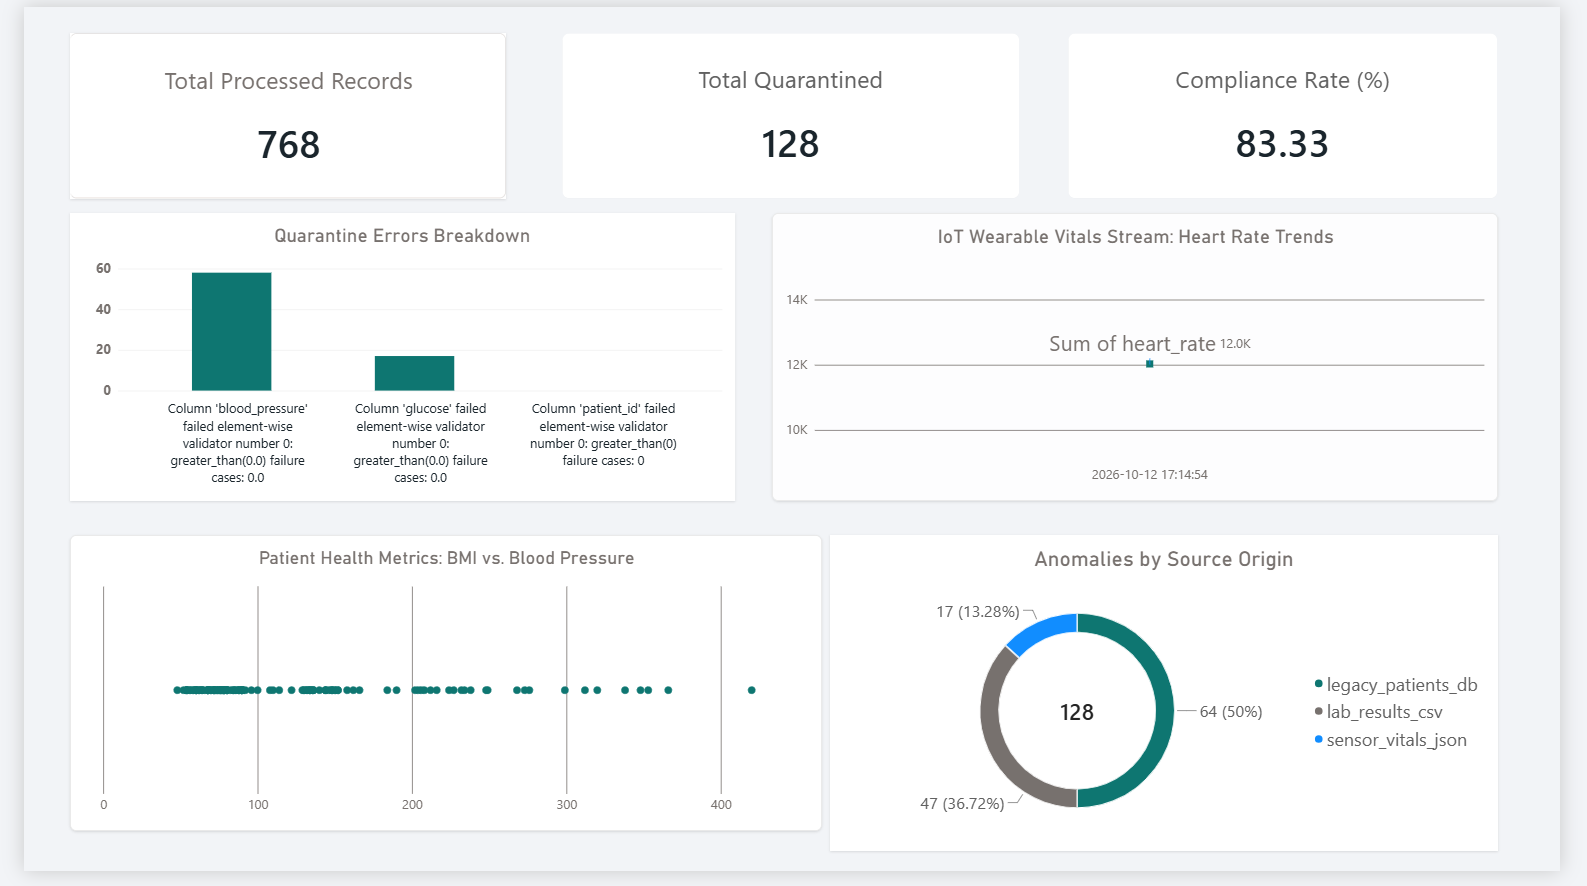

This screenshot's page, from the dashboard's own definition file:
{"tool":"powerbi","page":{"name":"Page 1","canvas":[1920,1080],"ordinal":0},"visuals":[{"type":"cardVisual","fields":{"Data":["_Measures.Total Processed Records"]},"box":[57.5,32.5,545,207.5],"z":0},{"type":"cardVisual","title":"Total Quarantined","fields":{"Data":["_Measures.Total Quarantined"]},"box":[672.5,32.5,572.5,207.5],"z":1000},{"type":"cardVisual","fields":{"Data":["_Measures.Compliance Rate (%)"]},"box":[1305,32.5,537.5,207.5],"z":2000},{"type":"clusteredColumnChart","title":"Quarantine Errors Breakdown","fields":{"Category":["public clinical_quarantined_records.quarantine_reason"],"Y":["Sum(public clinical_quarantined_records.patient_id)"]},"box":[57.5,257.5,831.4,360],"z":3000},{"type":"lineChart","title":"IoT Wearable Vitals Stream: Heart Rate Trends","fields":{"Category":["public clinical_sensor_vitals.recorded_at"],"Y":["Sum(public clinical_sensor_vitals.heart_rate)"]},"box":[935,257.5,907.5,360],"z":4000},{"type":"donutChart","title":"Anomalies by Source Origin","fields":{"Category":["public clinical_quarantined_records.source_origin"],"Y":["_Measures.Total Quarantined"]},"box":[1007.5,660,835,395],"z":5000},{"type":"scatterChart","title":"Patient Health Metrics: BMI vs. Blood Pressure","fields":{"Category":["public clinical_patient_registry.bmi"],"X":["Sum(public clinical_patient_registry.blood_pressure)"]},"box":[57.5,660,940,370],"z":6000}]}

Visuals, with their boxes in screenshot pixels (x1, y1, x2, y2), scaled from the page's 1920x1080 canvas onto the 1587x886 screenshot:
cardVisual - _Measures.Total Processed Records: 48,27,498,197
"Total Quarantined" cardVisual: 556,27,1029,197
cardVisual - _Measures.Compliance Rate (%): 1079,27,1523,197
"Quarantine Errors Breakdown" clusteredColumnChart: 48,211,735,507
"IoT Wearable Vitals Stream: Heart Rate Trends" lineChart: 773,211,1523,507
"Anomalies by Source Origin" donutChart: 833,541,1523,865
"Patient Health Metrics: BMI vs. Blood Pressure" scatterChart: 48,541,824,845
